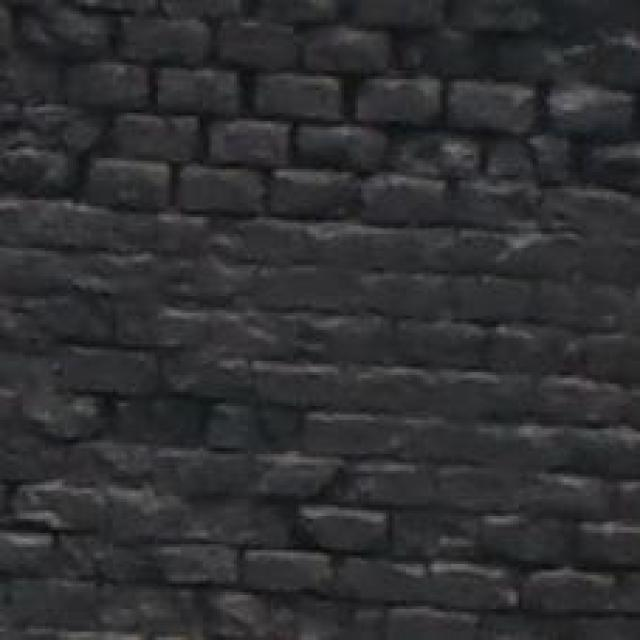Crack: (0, 0, 640, 282), (0, 380, 640, 640)
